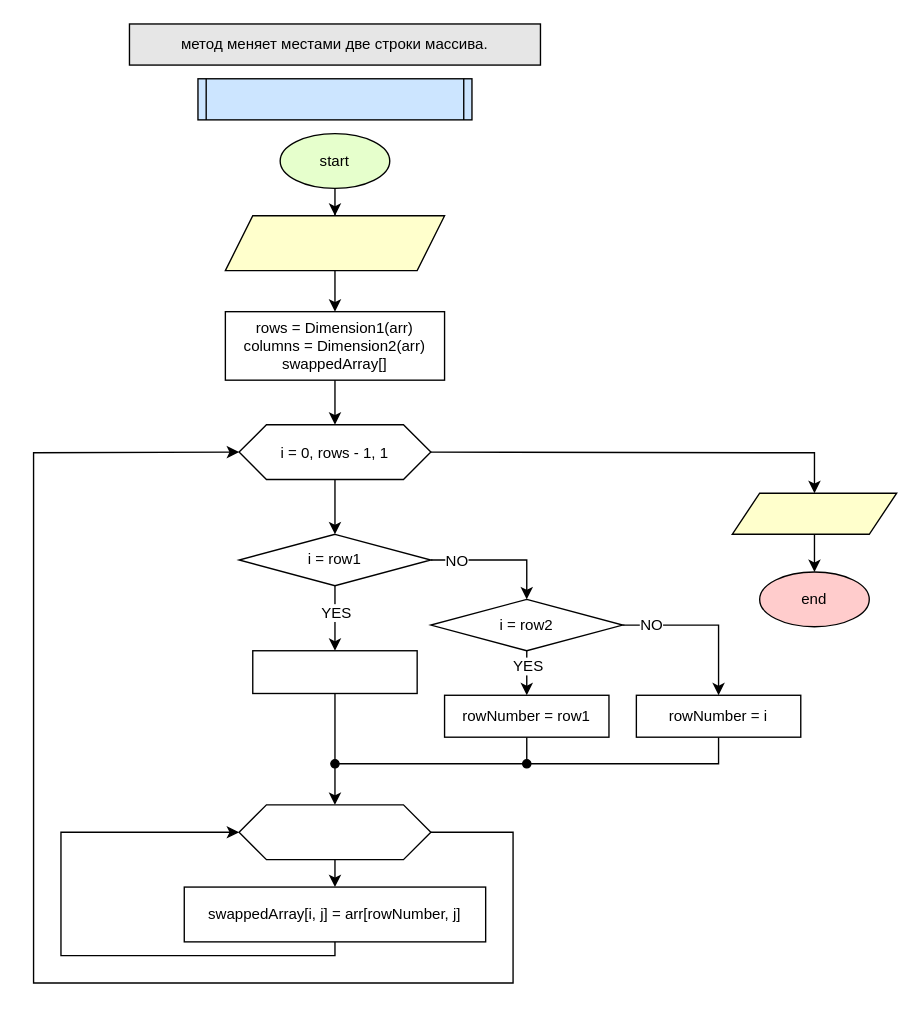
The diagram is 921 pixels wide and 1018 high, and some of its shapes have lost their labels. Here are the shapes that lost their labels. From the top down, the centre of each, then its label:
At point 334,98: "CreateSwappedMatrix".
At point 334,242: "arr, row1, row2".
At point 814,513: "swappedArray[]".
At point 334,671: "rowNumber = row2".
At point 334,832: "j = 0, columns - 1, 1".
